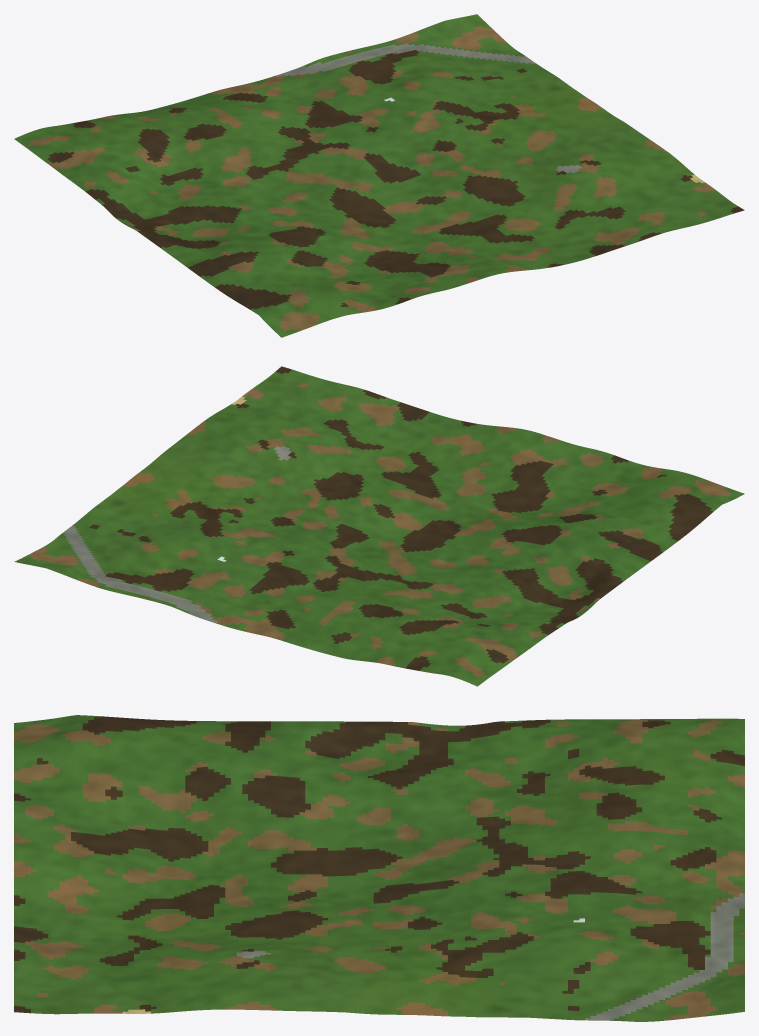
File: chunk_2_4.glb
The picture shows the model from 3 angles, top to bottom: view 1: azimuth 30°, elevation 25°; view 2: azimuth 150°, elevation 25°; view 3: azimuth 270°, elevation 25°; orthographic projection. The views are drawn at different scales.
Visible parts, largest first — view 1: Surface_Grass, Surface_Mud, Surface_Dirt, Surface_Gravel; view 2: Surface_Grass, Surface_Mud, Surface_Dirt, Surface_Gravel; view 3: Surface_Grass, Surface_Mud, Surface_Dirt, Surface_Gravel.
Part boxes in pixels (bbox=[...]): Surface_Grass: bbox=[14, 14, 738, 337]; Surface_Mud: bbox=[47, 50, 744, 309]; Surface_Dirt: bbox=[28, 26, 715, 331]; Surface_Gravel: bbox=[275, 43, 581, 173]; Surface_Grass: bbox=[14, 369, 744, 686]; Surface_Mud: bbox=[89, 366, 713, 670]; Surface_Dirt: bbox=[29, 383, 732, 676]; Surface_Gravel: bbox=[62, 446, 291, 623]; Surface_Grass: bbox=[14, 715, 744, 1021]; Surface_Mud: bbox=[14, 716, 744, 1013]; Surface_Dirt: bbox=[14, 719, 744, 1020]; Surface_Gravel: bbox=[236, 893, 744, 1020].
Size of the model in its own units: 256 by 13.6 by 256.
